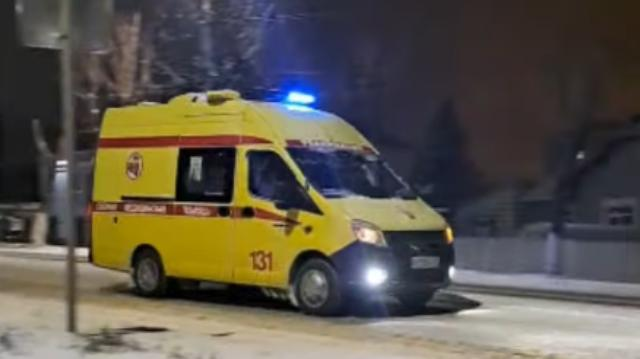intensive care unit: (89, 91, 460, 318)
